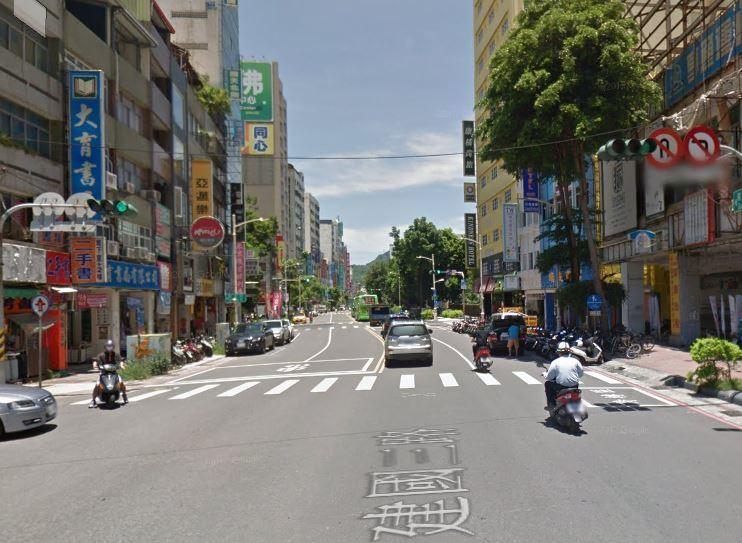car: (373, 311, 439, 372), (231, 317, 276, 356), (491, 311, 529, 348), (267, 315, 302, 342)
green_traffic_light: (599, 135, 654, 164), (85, 196, 139, 216)
motorcycle: (535, 339, 590, 435), (92, 350, 128, 408), (466, 323, 493, 373)
